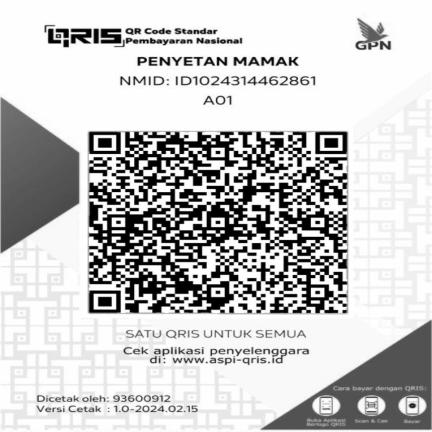Cara Pakai QRIS: (299, 382, 430, 428)
Cek Aplikasi Penyelenggara: (117, 346, 315, 367)
Dicetak Oleh: (34, 393, 174, 402)
Logo GPN: (345, 12, 397, 53)
Logo dan deskripsi QRIS: (40, 22, 249, 48)
Nama Merchant: (131, 52, 305, 70)
National Merchant ID: (114, 72, 327, 88)
QR Code: (77, 120, 357, 319)
Slogan: (118, 326, 315, 342)
Terminal ID: (192, 92, 241, 107)
Versi Cetak: (34, 404, 203, 415)
